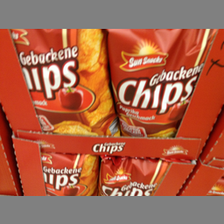chips: (107, 30, 208, 137), (13, 31, 108, 136)
